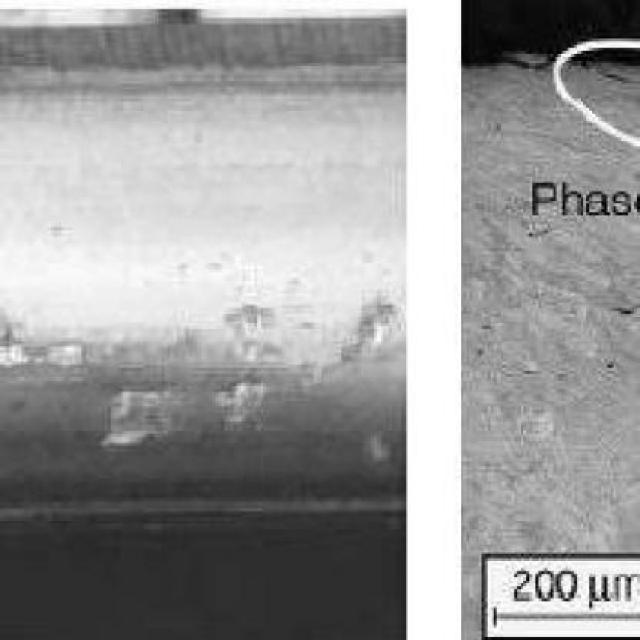defective: (12, 29, 410, 604)
